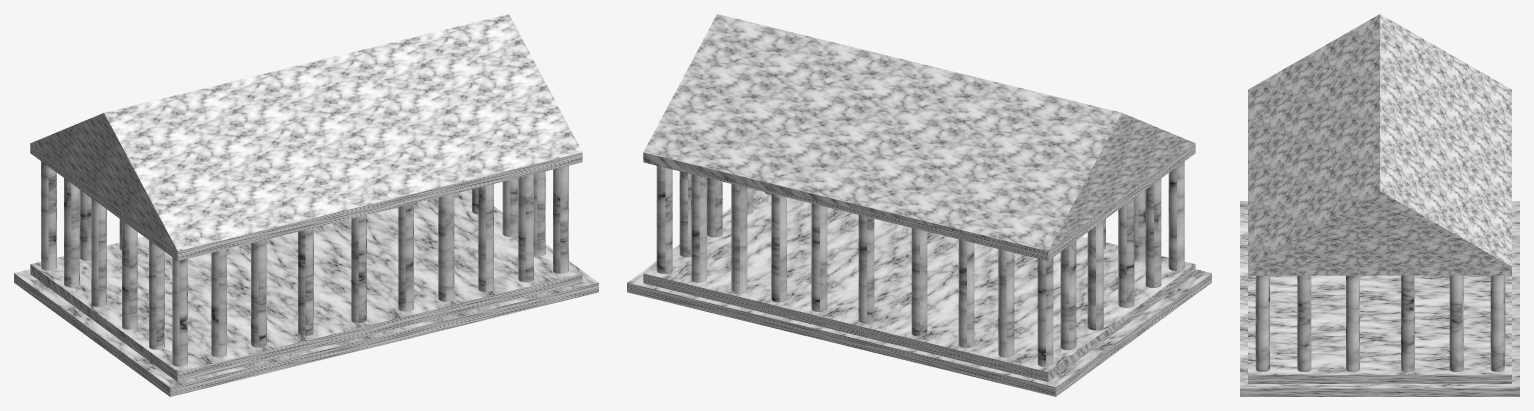
Rendered from temple.glb.
The picture shows the model from 3 angles, left to right: view 1: azimuth 30°, elevation 25°; view 2: azimuth 150°, elevation 25°; view 3: azimuth 270°, elevation 25°; orthographic projection. The views are drawn at different scales.
Visible parts, largest first — view 1: Cube.005; view 2: Cube.005; view 3: Cube.005.
Boxes of the visible parts, x1,y1,x2,y2 form: Cube.005: [14, 14, 598, 396]; Cube.005: [627, 14, 1211, 396]; Cube.005: [1240, 14, 1519, 396].
Size of the model in its own units: 4.09 by 2.04 by 2.58.
Materials: 1 (1 with a texture image).
